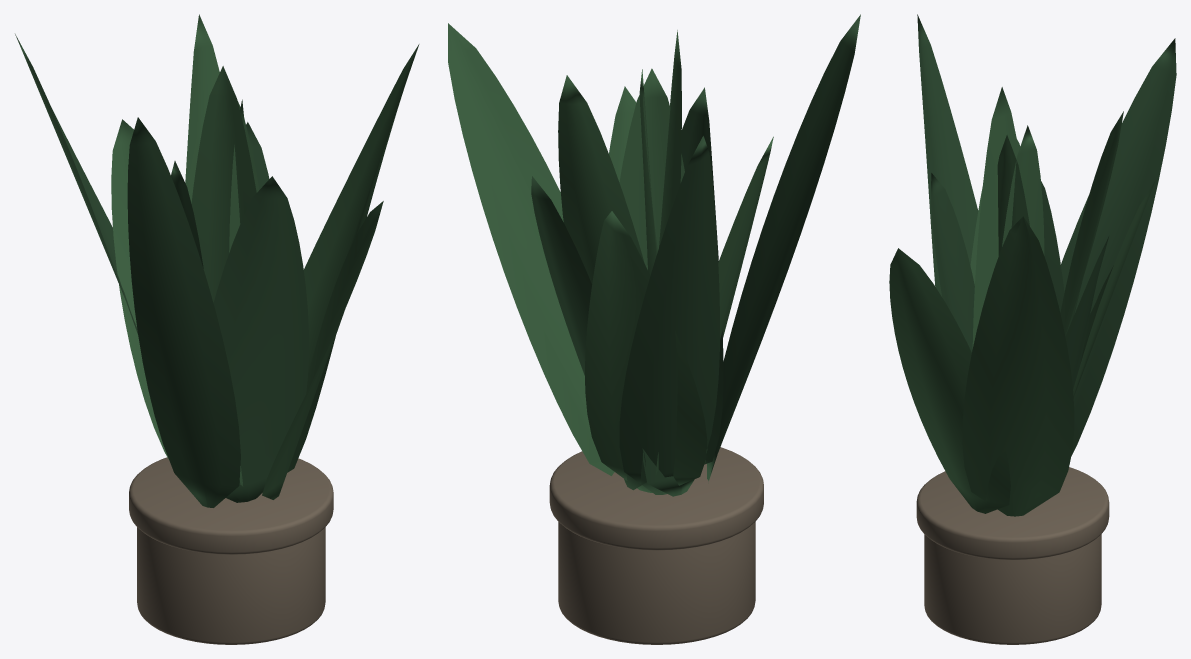
The model's file is floor-plant.glb.
3 renders of one model, left to right at view 1: azimuth 30°, elevation 25°; view 2: azimuth 150°, elevation 25°; view 3: azimuth 270°, elevation 25°, orthographic. The views are drawn at different scales.
Visible parts, largest first — view 1: floor_plant_leaves, floor_plant_pot; view 2: floor_plant_leaves, floor_plant_pot; view 3: floor_plant_leaves, floor_plant_pot.
Part boxes in pixels (x1,y1,x2,y2): floor_plant_leaves: (15,14,419,507); floor_plant_pot: (129,457,333,644); floor_plant_leaves: (448,14,860,496); floor_plant_pot: (549,447,763,644); floor_plant_leaves: (889,14,1176,516); floor_plant_pot: (916,467,1109,644).
Size of the model in its own units: 0.3595 by 0.5694 by 0.2803.
